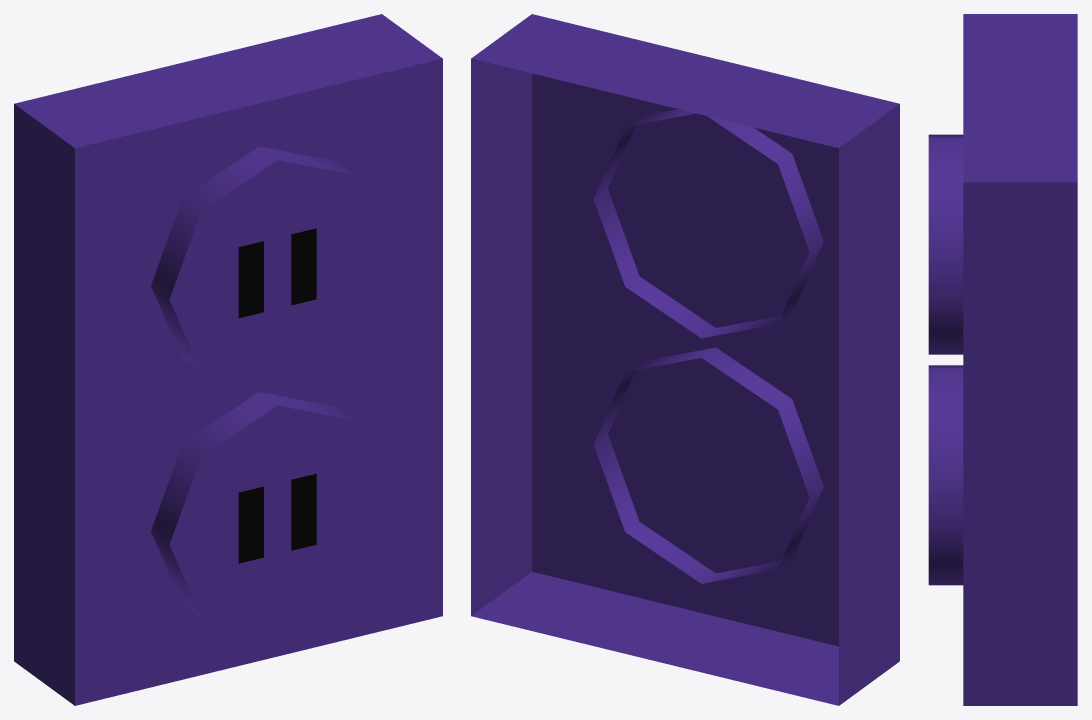
The model's file is electrical_outlet.fbx.
3 renders of one model, left to right at view 1: azimuth 30°, elevation 25°; view 2: azimuth 150°, elevation 25°; view 3: azimuth 270°, elevation 25°, orthographic. The views are drawn at different scales.
Parts seen in each view (by area): view 1: electrical_outlet; view 2: electrical_outlet; view 3: electrical_outlet.
Boxes of the visible parts, <box> form: electrical_outlet: <box>14,14,442,705</box>; electrical_outlet: <box>471,14,899,705</box>; electrical_outlet: <box>928,14,1077,705</box>.
Bounding box in the file's own units: 6.12 × 8.87 × 2.3.
